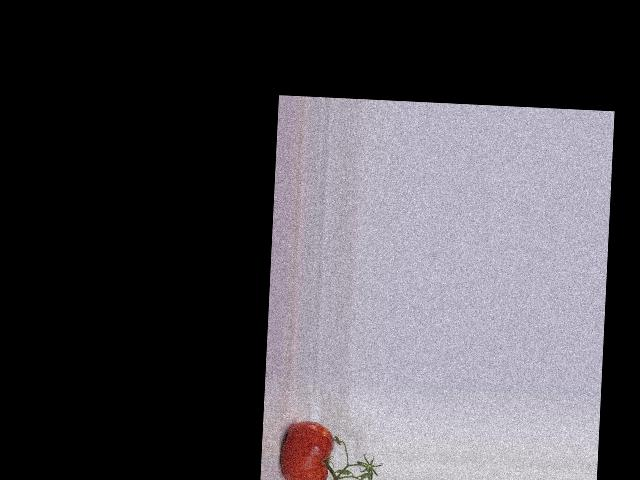tomato: (278, 419, 334, 480)
